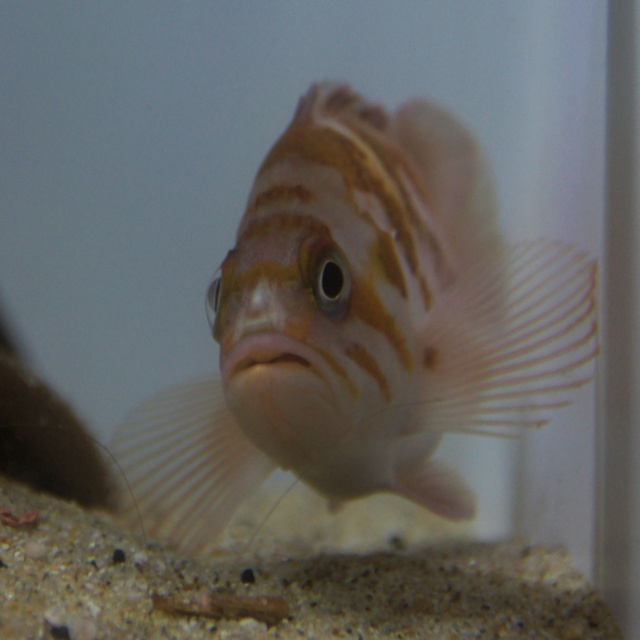Fish: (104, 80, 600, 559)
